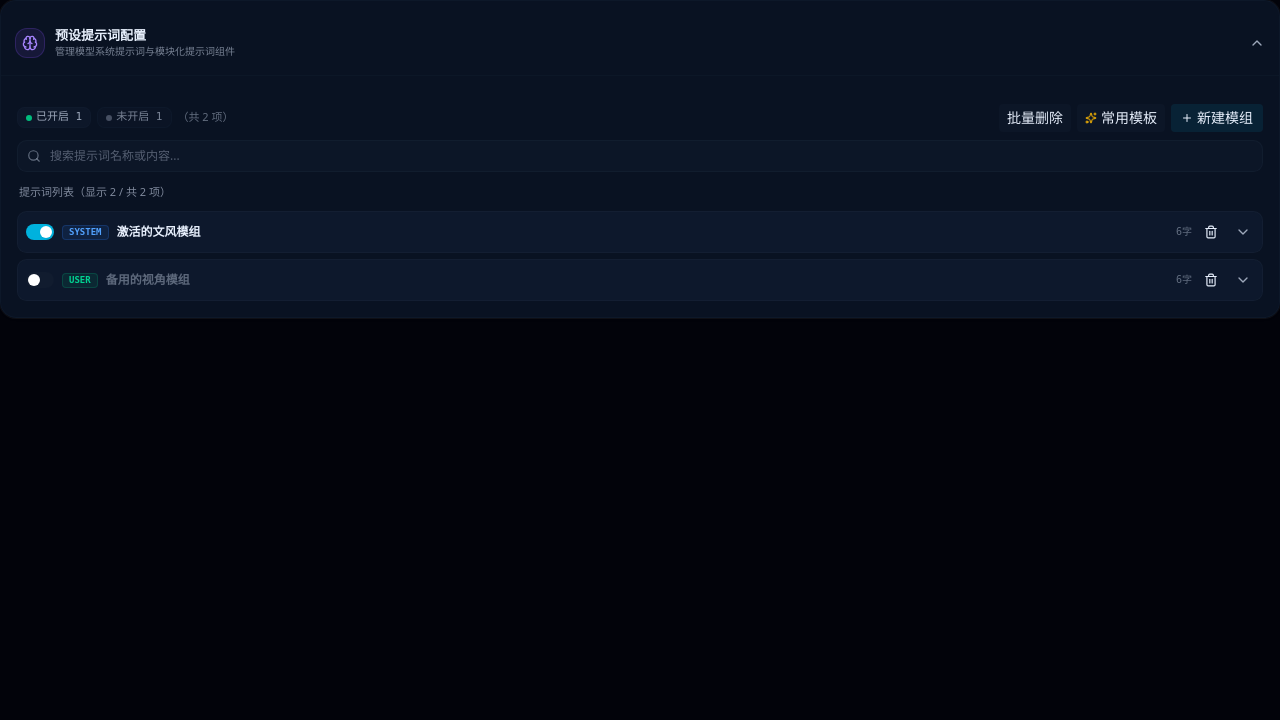
Test: PromptsConfigSection 所有预设一视同仁统一列表 › 对齐 SillyTavern 交互：同屏完整展示全部模组，未开启项就地保留且支持关键字搜索
The width and height of the screenshot is (1280, 720).
Check: the text "激活的文风模组" is shown, box [116,223,200,240]
Check: the text "备用的视角模组" is shown, box [106,271,190,288]
 搜索框实时过滤
In the field with placeholder "搜索提示词名称或内容...": (640, 156) [17,140,1263,172], type "第二人称"
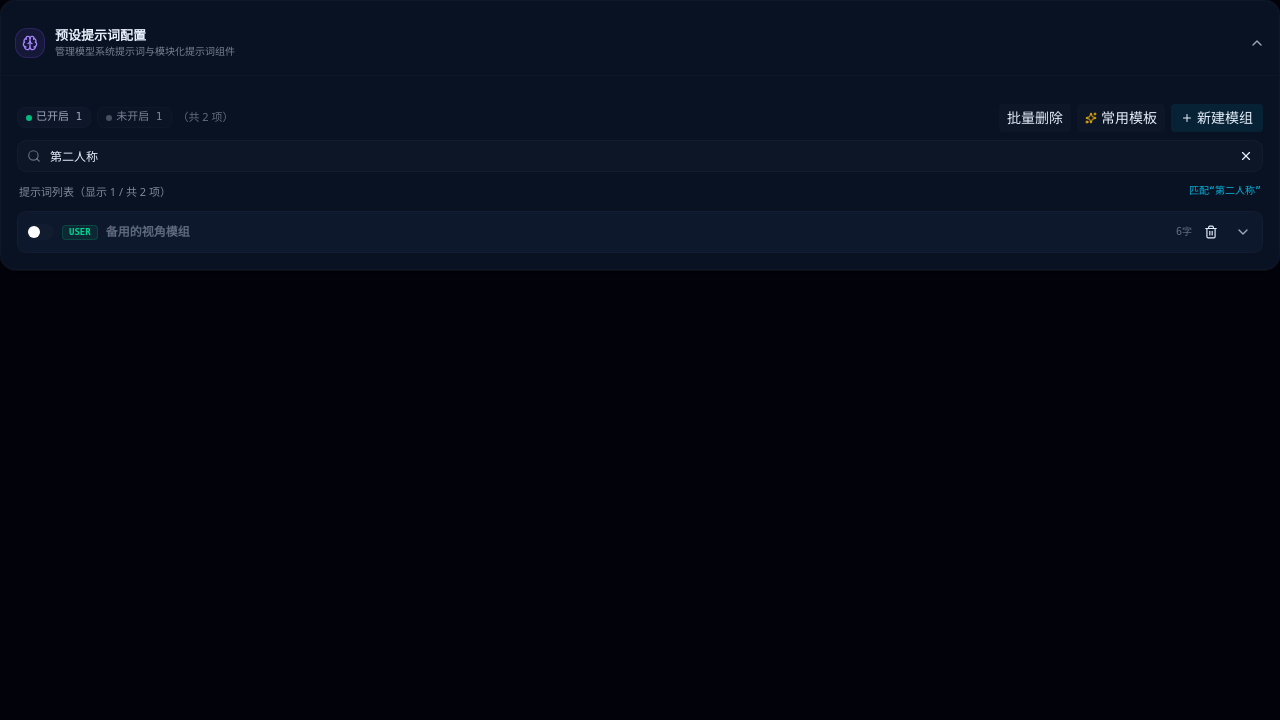
Check: the text "备用的视角模组" is shown, box [106,223,190,240]
Check: the text "激活的文风模组" is gone
清空搜索框后恢复全量平铺
Clear the field with placeholder "搜索提示词名称或内容...": (640, 156) [17,140,1263,172]
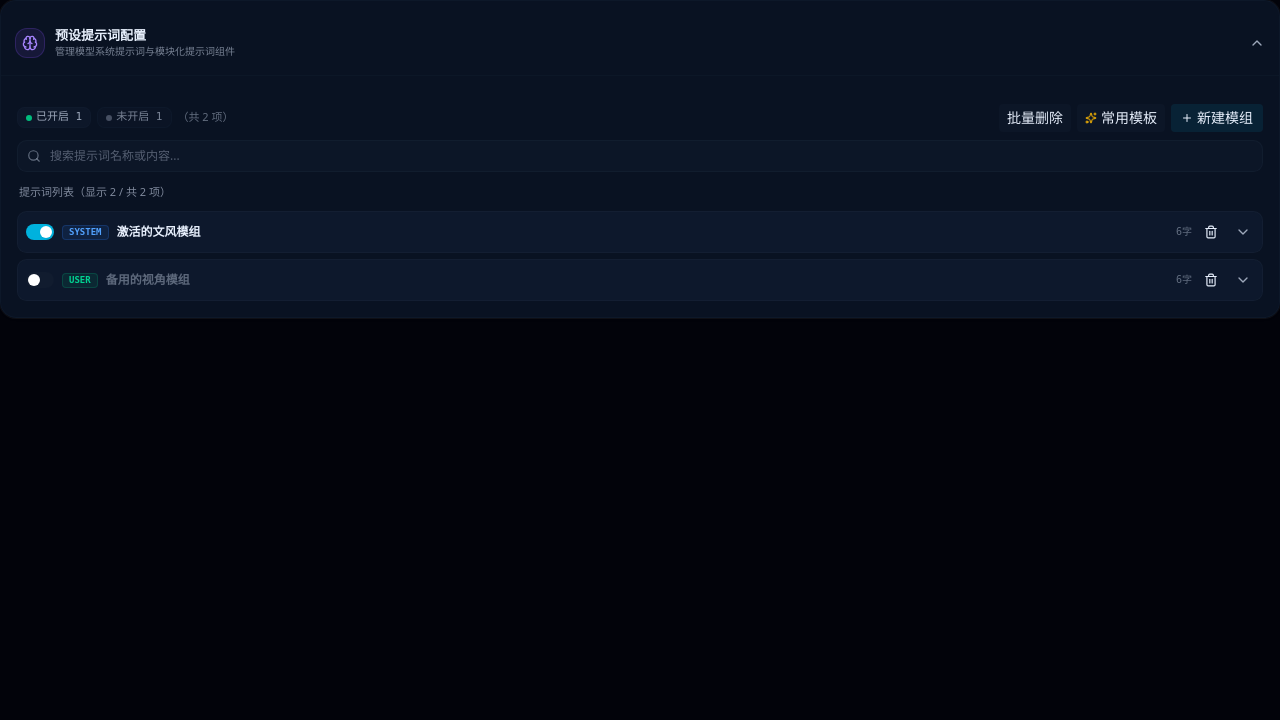
Check: the text "备用的视角模组" is shown, box [106,271,190,288]
Check: the text "激活的文风模组" is shown, box [116,223,200,240]
